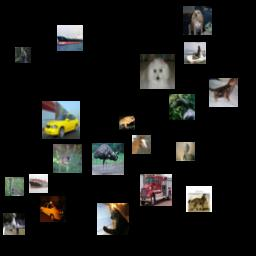automobile: (42, 101, 80, 139), (40, 196, 66, 222)
bird: (92, 143, 124, 175), (176, 142, 195, 161), (5, 177, 24, 196), (15, 47, 31, 63)
cat: (97, 203, 129, 235), (209, 78, 238, 107)
deer: (53, 144, 82, 173)
dog: (140, 54, 175, 89), (183, 6, 212, 35)
frog: (119, 114, 135, 130)
ship: (57, 25, 83, 51), (184, 42, 206, 64), (29, 174, 48, 193)
truck: (140, 174, 172, 206)
